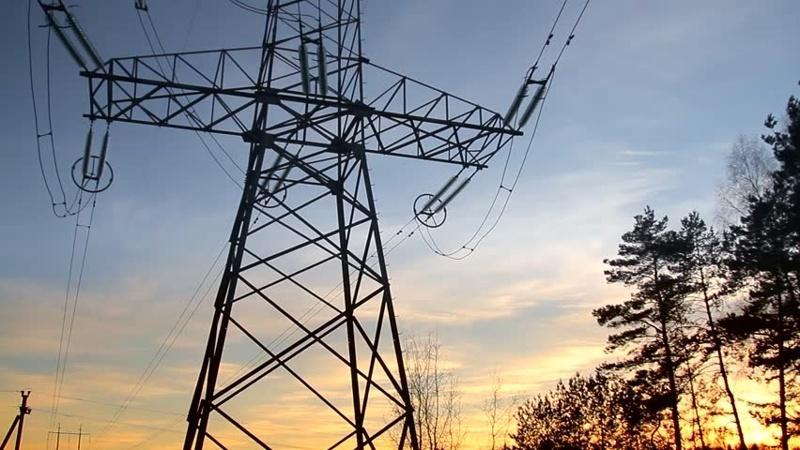power_tower: (31, 1, 552, 447)
